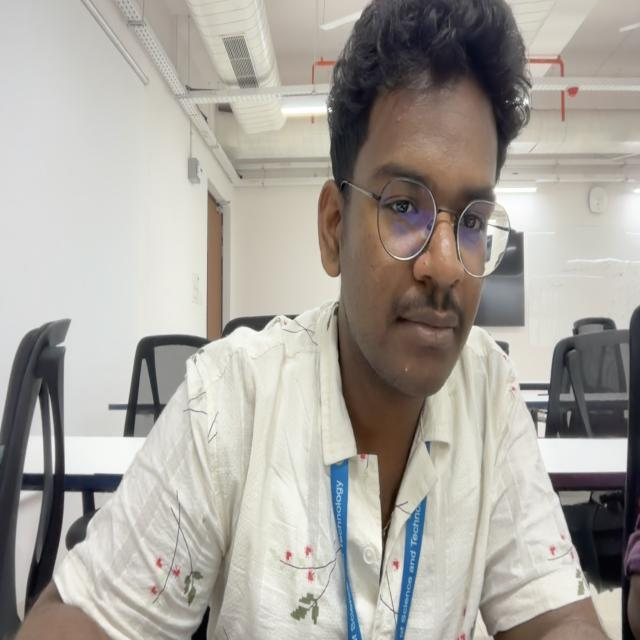sai: (320, 0, 533, 403)
